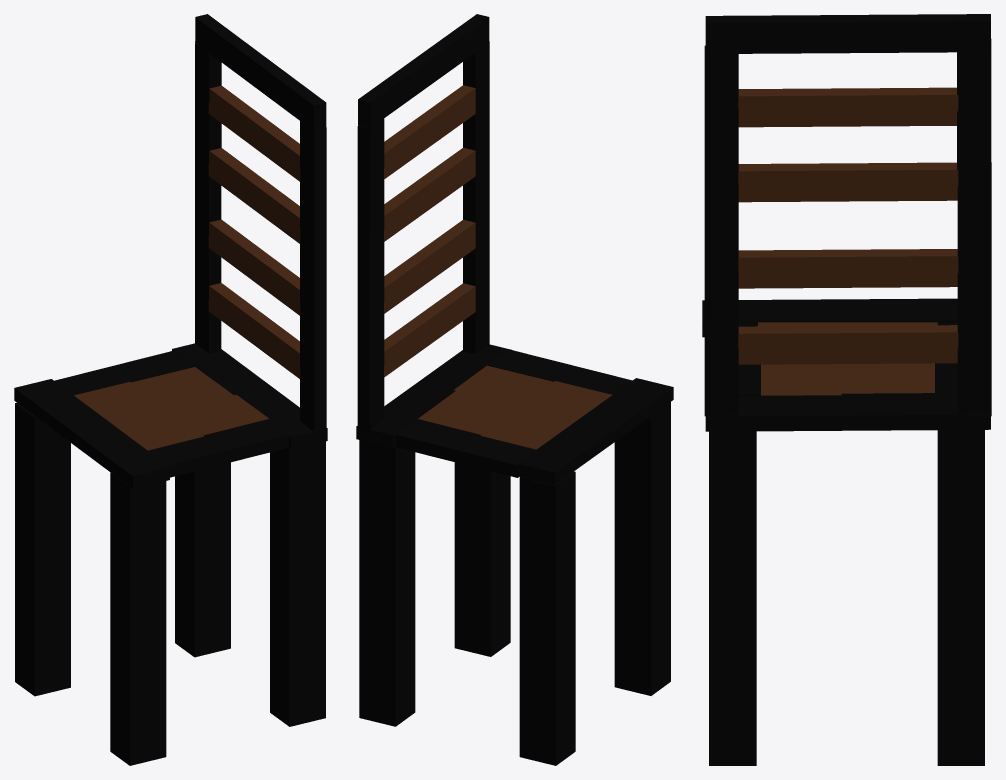
The picture shows the model from 3 angles, left to right: view 1: azimuth 30°, elevation 25°; view 2: azimuth 150°, elevation 25°; view 3: azimuth 270°, elevation 25°; orthographic projection. The views are drawn at different scales.
Visible parts, largest first — view 1: Cube.002, Cube.001, Cube.004, Cube.003, Cube.005, Cube.016, Cube.006, Cube.010, Cube.015, Cube.007, Cube.018, Cube.014 (+6 smaller); view 2: Cube.004, Cube.003, Cube.002, Cube.001, Cube.005, Cube.016, Cube.007, Cube.010, Cube.006, Cube.015, Cube.017, Cube.011 (+6 smaller); view 3: Cube.003, Cube.001, Cube.010, Cube.015, Cube.006, Cube.014, Cube.013, Cube.012, Cube.011, Cube.007, Cube.005, Cube.016 (+4 smaller).
Boxes of the visible parts, x1,y1,x2,y2 form: Cube.002: (110, 472, 166, 765); Cube.001: (270, 441, 325, 726); Cube.004: (15, 403, 70, 696); Cube.003: (175, 462, 230, 657); Cube.005: (74, 367, 268, 450); Cube.016: (14, 379, 170, 488); Cube.006: (300, 217, 326, 432); Cube.010: (195, 14, 326, 130); Cube.015: (172, 343, 327, 449); Cube.007: (195, 141, 221, 353); Cube.018: (148, 418, 291, 477); Cube.014: (208, 283, 300, 378); Cube.004: (519, 471, 575, 765); Cube.003: (359, 440, 415, 726); Cube.002: (614, 402, 670, 695); Cube.001: (454, 462, 510, 656); Cube.005: (418, 365, 611, 449); Cube.016: (517, 378, 673, 485); Cube.007: (357, 217, 384, 431); Cube.010: (358, 14, 489, 128); Cube.006: (463, 140, 489, 354); Cube.015: (356, 344, 511, 448); Cube.017: (395, 419, 535, 477); Cube.011: (384, 85, 475, 179); Cube.003: (937, 430, 984, 765); Cube.001: (709, 431, 756, 765); Cube.010: (705, 14, 991, 53); Cube.015: (705, 393, 990, 431); Cube.006: (704, 169, 738, 416); Cube.014: (738, 325, 958, 364); Cube.013: (738, 249, 958, 288); Cube.012: (738, 162, 958, 202); Cube.011: (738, 87, 958, 127); Cube.007: (957, 162, 991, 416); Cube.005: (758, 322, 937, 395); Cube.016: (702, 298, 957, 337).
Bounding box in the file's own units: 343 × 1031 × 364.
